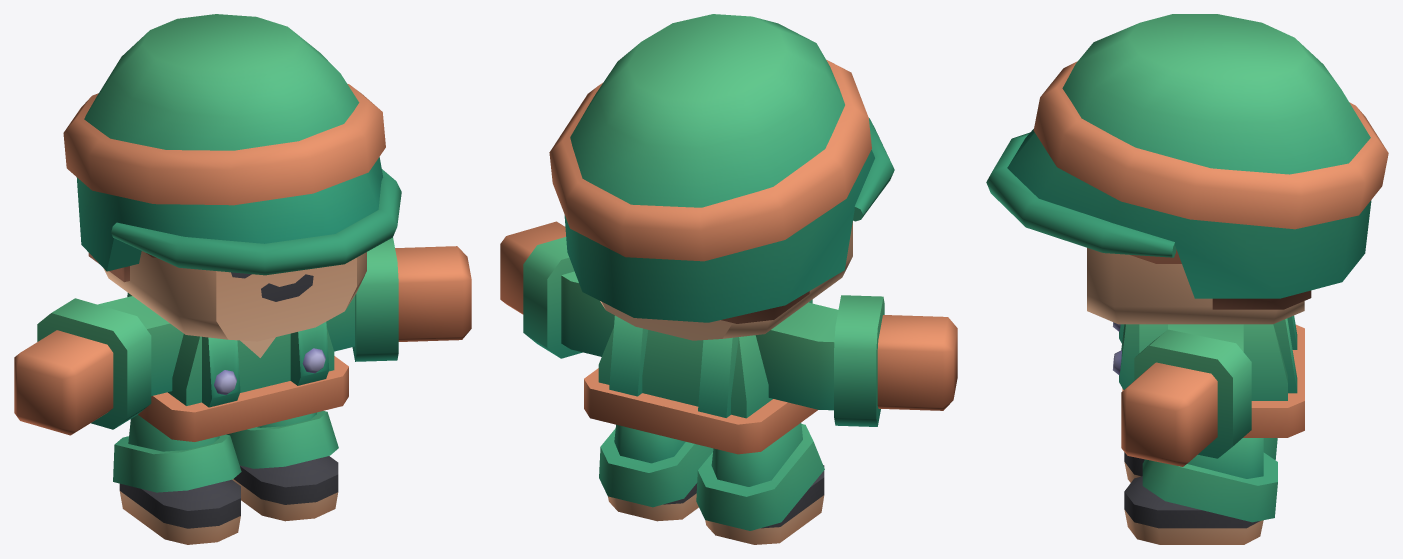
Rendered from character-soldier.obj.
3 views of the same model, side by side, from view 1: azimuth 30°, elevation 25°; view 2: azimuth 150°, elevation 25°; view 3: azimuth 270°, elevation 25° (orthographic).
Parts seen in each view (by area): view 1: head-mesh, body-mesh; view 2: head-mesh, body-mesh; view 3: head-mesh, body-mesh.
Part boxes in pixels (left/top/right/bottom): head-mesh: left=63, top=14, right=401, bottom=341; body-mesh: left=14, top=237, right=471, bottom=544; head-mesh: left=549, top=14, right=894, bottom=340; body-mesh: left=500, top=221, right=957, bottom=544; head-mesh: left=986, top=14, right=1388, bottom=324; body-mesh: left=1112, top=315, right=1304, bottom=544.
Bounding box in the file's own units: 0.7672 × 0.7549 × 0.5917.
1 material, 1 textured.
